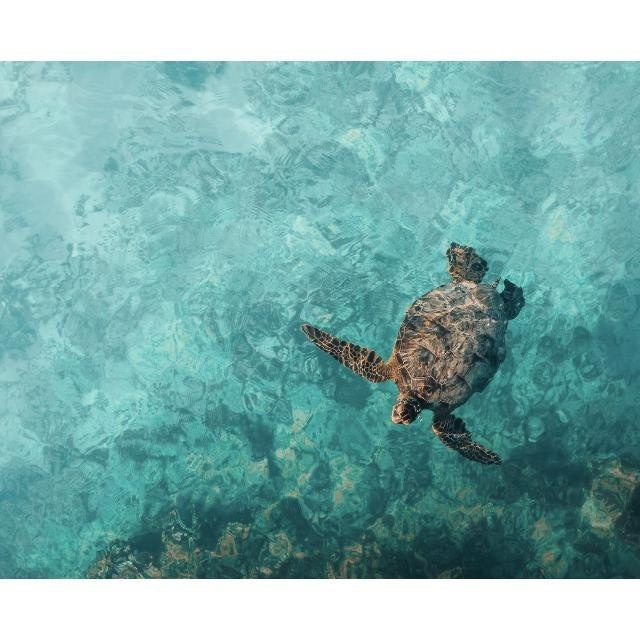turtle: (300, 241, 524, 464)
